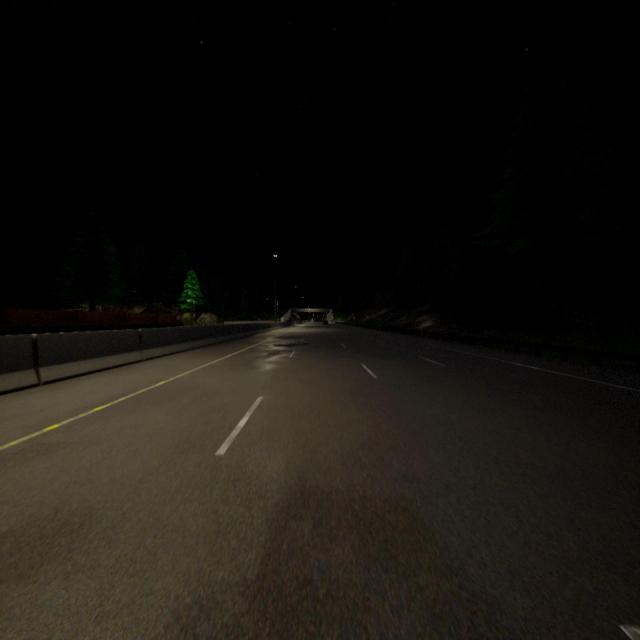Vehicle: (323, 320, 328, 325)
